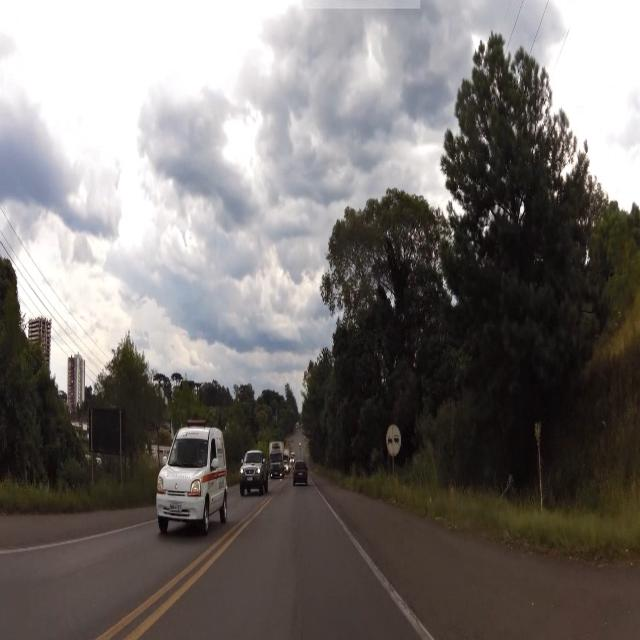R-7: (386, 426, 402, 456)
